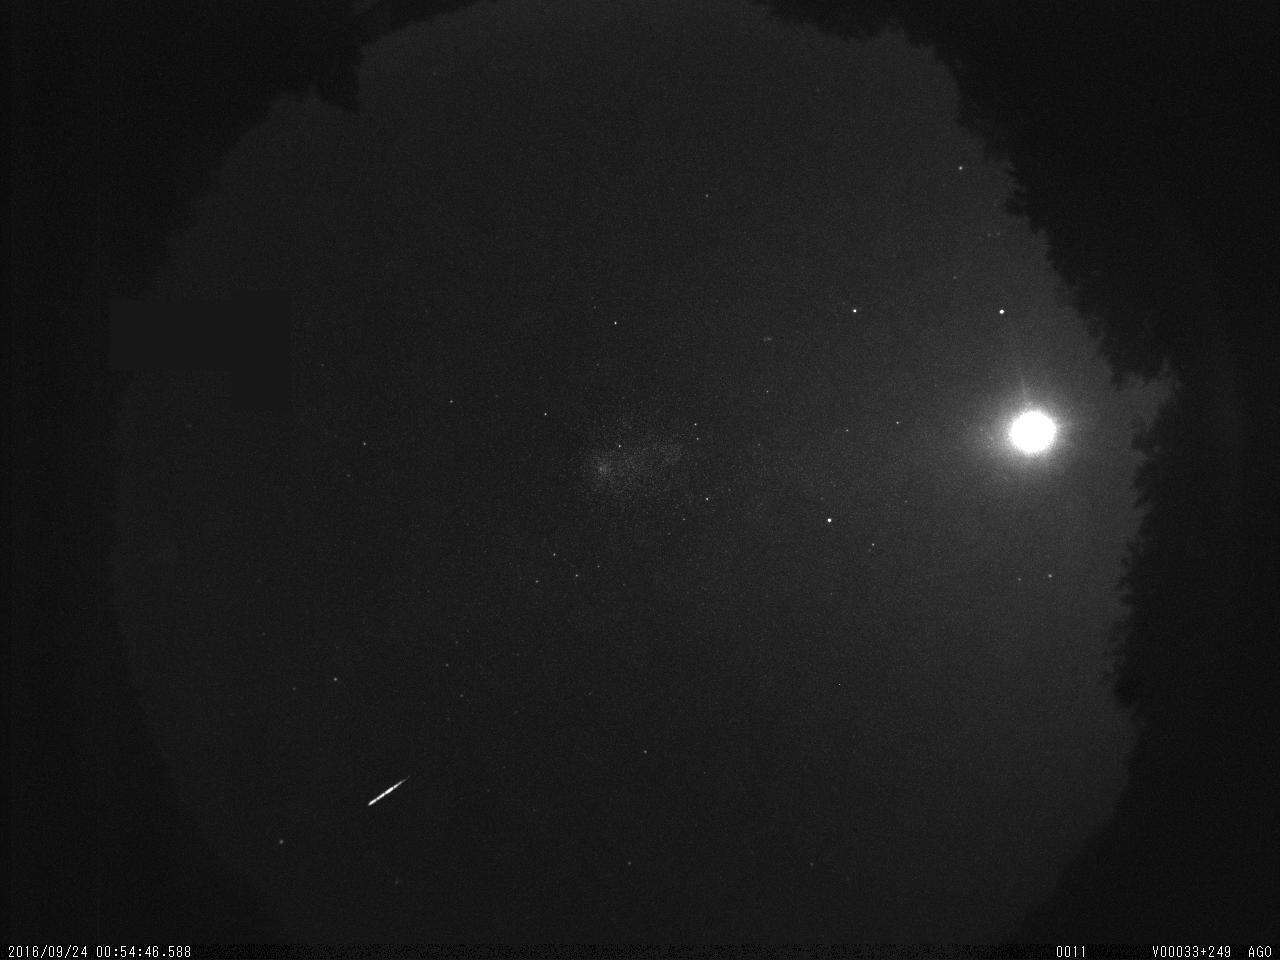Meteor: (366, 773, 410, 807)
